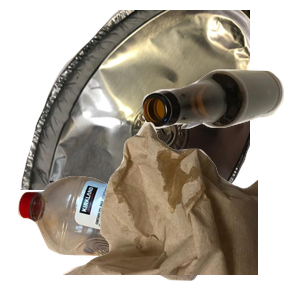glass: (140, 67, 300, 188)
metal: (18, 10, 258, 190)
plastic: (15, 173, 222, 300)
trash: (60, 120, 300, 300)
